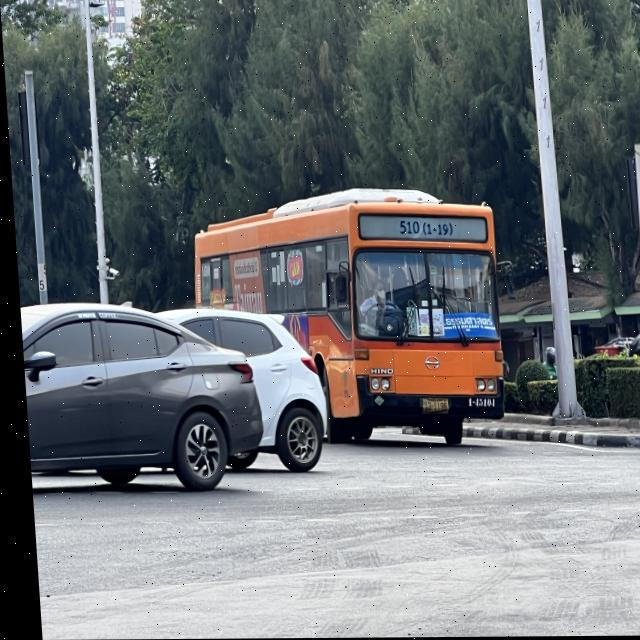BMTA-bus: (189, 191, 500, 448)
Bus Line Number: (391, 214, 454, 240)
Bus Side Number: (460, 394, 492, 410)
Destination Sign: (439, 313, 493, 339)
